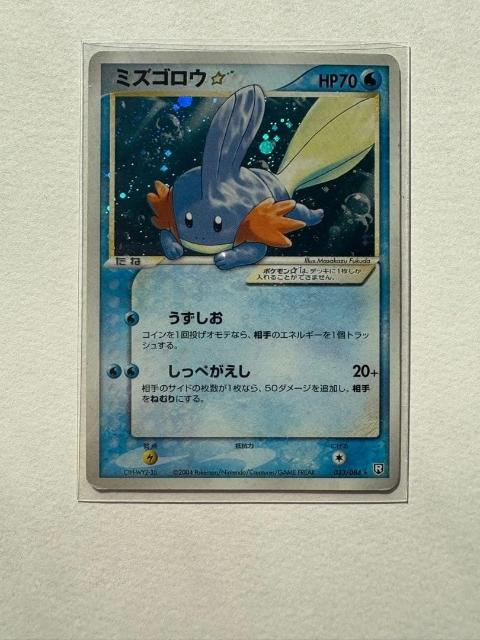Card: (82, 47, 405, 495)
Name: (109, 63, 243, 90)
